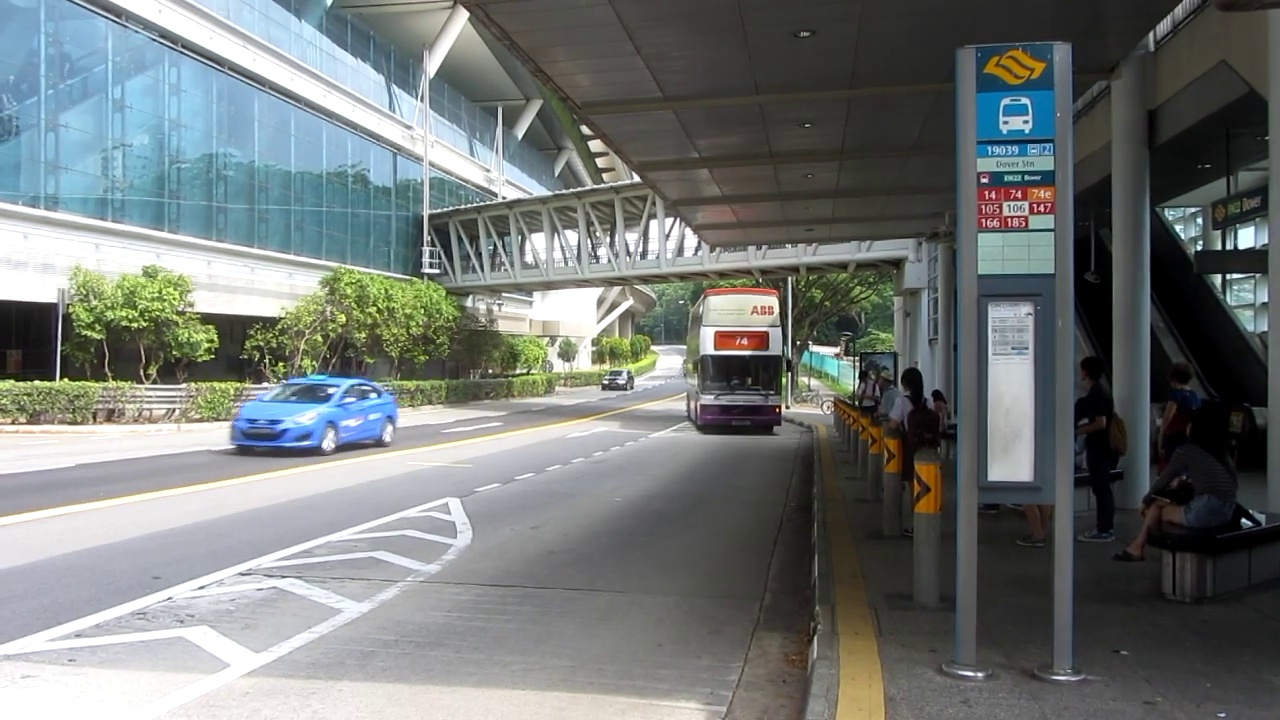bus panel: (713, 330, 771, 353)
